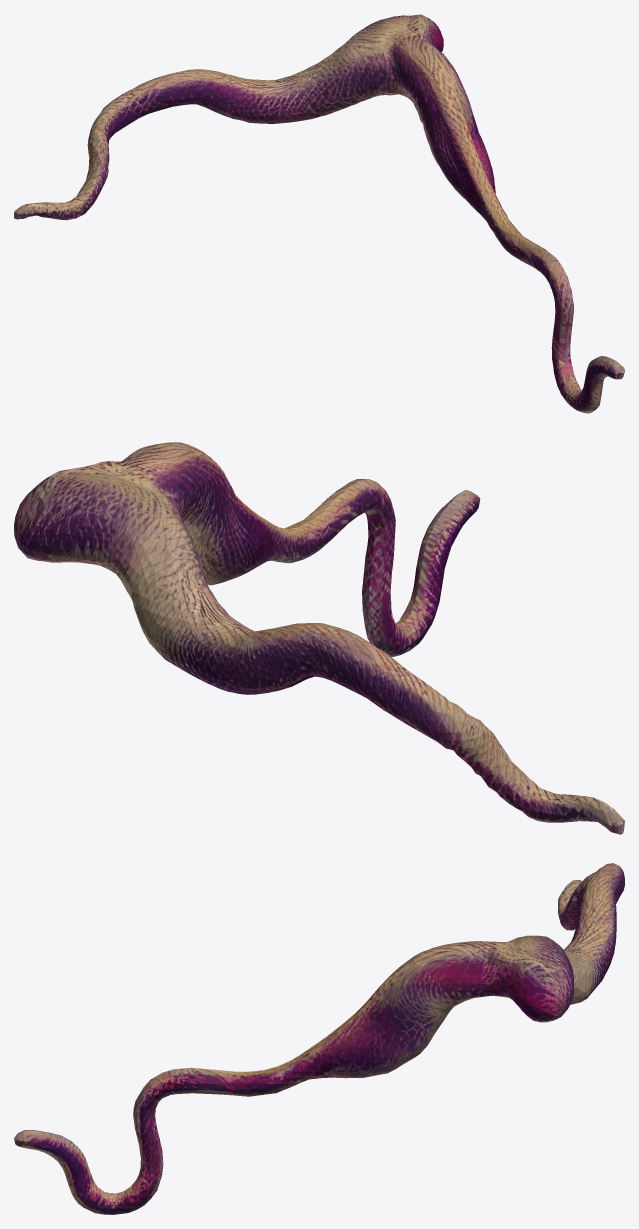
File: campylobacter-jejuni.glb
3 renders of one model, top to bottom at view 1: azimuth 30°, elevation 25°; view 2: azimuth 150°, elevation 25°; view 3: azimuth 270°, elevation 25°, orthographic. The views are drawn at different scales.
Parts seen in each view (by area): view 1: tripo_node_913b2278-131b-4238-b83d-9bc814b202c5; view 2: tripo_node_913b2278-131b-4238-b83d-9bc814b202c5; view 3: tripo_node_913b2278-131b-4238-b83d-9bc814b202c5.
Boxes of the visible parts, left/top/right/bottom form: tripo_node_913b2278-131b-4238-b83d-9bc814b202c5: left=14, top=14, right=624, bottom=413; tripo_node_913b2278-131b-4238-b83d-9bc814b202c5: left=14, top=442, right=624, bottom=834; tripo_node_913b2278-131b-4238-b83d-9bc814b202c5: left=14, top=863, right=624, bottom=1214.
Size of the model in its own units: 0.8568 by 0.4963 by 0.9999.
1 material, 1 textured.
